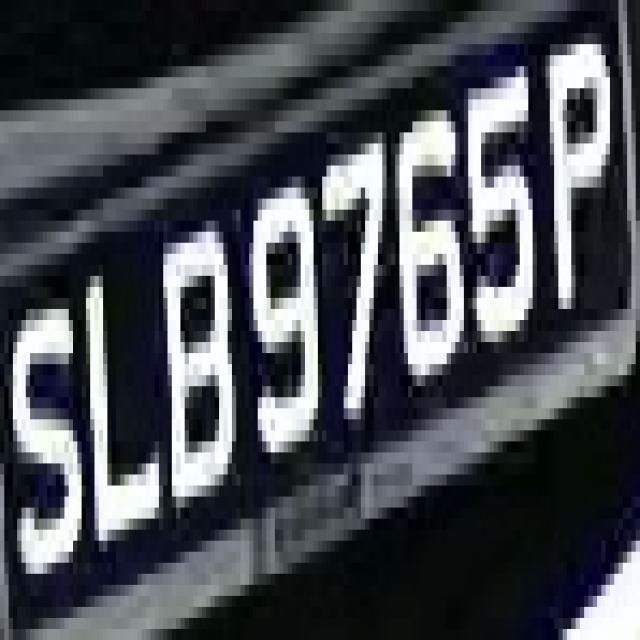5: (451, 22, 541, 353)
6: (378, 89, 477, 398)
7: (301, 100, 395, 452)
9: (236, 154, 331, 486)
B: (163, 198, 249, 518)
L: (73, 242, 163, 540)
P: (550, 11, 618, 331)
S: (4, 287, 86, 607)
